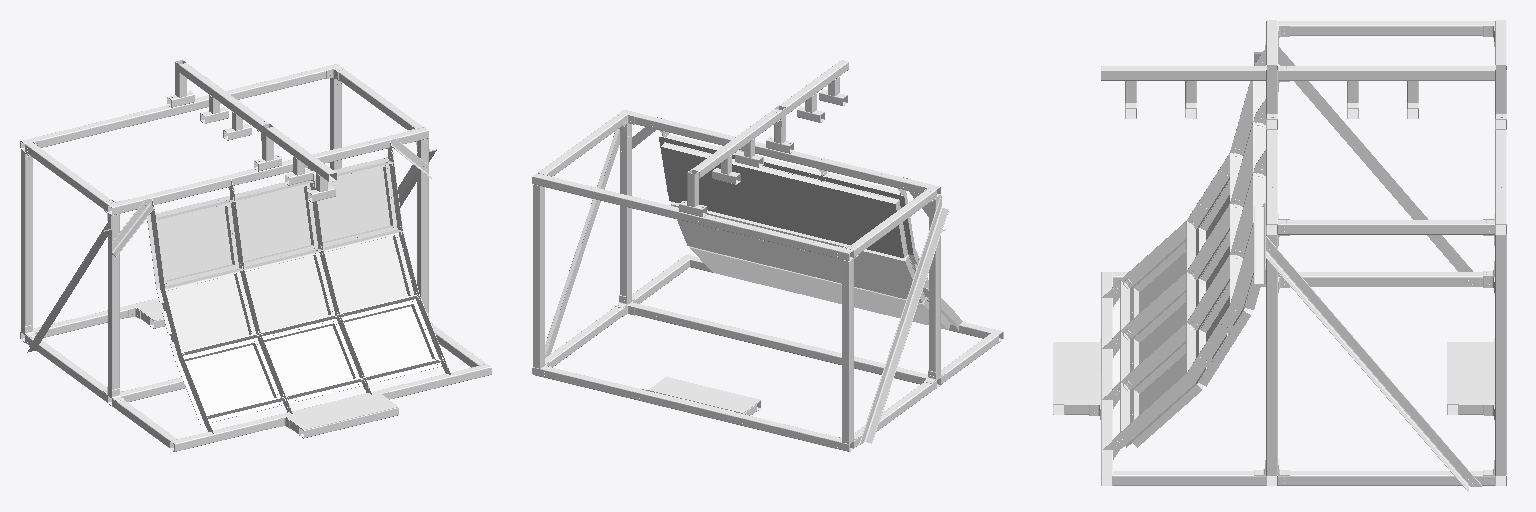
The robot description file, URDF, robot "frame_urdf":
<?xml version="1.0" encoding="utf-8"?>
<!-- This URDF was automatically created by SolidWorks to URDF Exporter! Originally created by [author] ([email redacted]) 
     Commit Version: 1.6.0-4-g7f85cfe  Build Version: 1.6.7995.38578
     For more information, please see http://wiki.ros.org/sw_urdf_exporter -->
<robot
  name="frame_urdf">
  <link
    name="base_link">
    <inertial>
      <origin
        xyz="-0.000867603338949407 0.93406221784774 -1.42199822386656"
        rpy="0 0 0" />
      <mass
        value="395.157443112891" />
      <inertia
        ixx="153.311848782145"
        ixy="0.0308993780336861"
        ixz="-0.0261813104646576"
        iyy="264.763716352695"
        iyz="51.9976262386078"
        izz="331.203910413762" />
    </inertial>
    <visual>
      <origin
        xyz="0 0 0"
        rpy="0 0 0" />
      <geometry>
        <mesh
          filename="package://frame_urdf/meshes/base_link.STL" />
      </geometry>
      <material
        name="">
        <color
          rgba="1 1 1 0.4" />
      </material>
    </visual>
    <collision>
      <origin
        xyz="0 0 0"
        rpy="0 0 0" />
      <geometry>
        <mesh
          filename="package://frame_urdf/meshes/base_link.STL" />
      </geometry>
    </collision>
  </link>
</robot>

--- What the picture shows (computed from the rendered views, not written in the file) ---
Views: 3 orthographic renders of the robot side by side, from view 1: azimuth 30°, elevation 25°; view 2: azimuth 150°, elevation 25°; view 3: azimuth 270°, elevation 25°.
Robot: frame_urdf — 1 links, 0 joints (none); root link base_link; default pose: every joint at zero.
Links seen in each view (by area): view 1: base_link; view 2: base_link; view 3: base_link.
Link boxes in pixels (bbox=[...]): base_link: bbox=[20, 60, 491, 451]; base_link: bbox=[532, 60, 1003, 451]; base_link: bbox=[1053, 20, 1506, 491].
Bounding box of the posed robot: 4.2 × 3.77 × 2.9 m (x, y, z).
1 mesh visuals loaded from 1 distinct referenced files (1 binary STL).